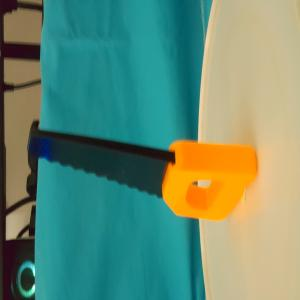serrote: (25, 126, 258, 222)
